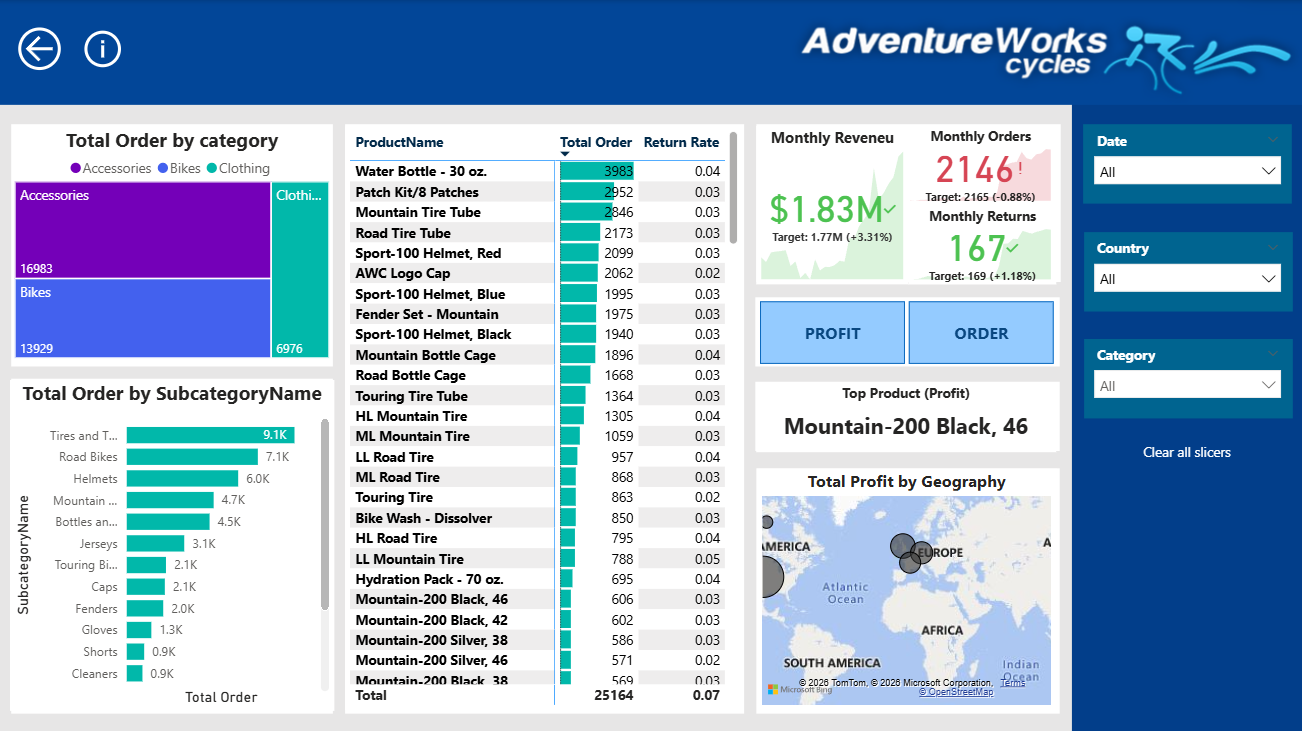

Layout of this report page (visuals, bound fields, positions):
{"tool":"powerbi","page":{"name":"Category Details","canvas":[1280,720],"ordinal":2},"visuals":[{"type":"treemap","title":"Total Order by category","fields":{"Group":["AWProductCategories.CategoryName","AWProductSubcategories.SubcategoryName"],"Values":["Sales.Total Order"]},"box":[9.6,124.2,318.4,232.8],"z":0},{"type":"shape","box":[745.9,295.1,142.3,61.5],"z":0,"group":"g1"},{"type":"shape","box":[892.5,295.5,142.3,61.5],"z":0,"group":"g2"},{"type":"textbox","box":[765.8,309.9,103.7,32.6],"z":1000,"group":"g1"},{"type":"textbox","box":[911.8,310,103.7,32.6],"z":1000,"group":"g2"},{"type":"barChart","fields":{"Category":["AWProductSubcategories.SubcategoryName"],"Y":["Sales.Total Order"]},"box":[9.6,372.7,318.4,324.4],"z":1000},{"type":"pivotTable","fields":{"Rows":["AWProducts.ProductName"],"Values":["Sales.Total Order","AWReturns.Return Rate"]},"box":[338.9,124.2,390.8,572.9],"z":2000},{"type":"kpi","title":"Monthly Reveneu","fields":{"TrendLine":["AWCalendar.Start of Month"],"Indicator":["Sales.Revenue Test"],"Goal":["Sales.Previous Month Revenue"]},"box":[742.9,124.2,149.5,155.6],"z":3000},{"type":"kpi","title":"Monthly Orders","fields":{"TrendLine":["AWCalendar.Start of Month"],"Indicator":["Sales.Total Order"],"Goal":["Sales.Previous Month Order"]},"box":[888.8,124.2,148.3,78.4],"z":4000},{"type":"kpi","title":"Monthly Returns","fields":{"Goal":["Sales.Previous Month Returns"],"TrendLine":["AWCalendar.Start of Month"],"Indicator":["AWReturns.Total Return"]},"box":[892.5,202.6,144.7,77.2],"z":5000},{"type":"map","title":"Total Profit by Geography","fields":{"Category":["AWTerritories.Country"],"Size":["Sales.Total Profit"]},"box":[744.1,460.7,293.1,236.4],"z":6000},{"type":"card","title":"Top Product (Profit)","fields":{"Values":["Min(AWProducts.ProductName)"]},"box":[742.9,376.3,294.3,67.5],"z":7000},{"type":"slicer","fields":{"Values":["AWTerritories.Country"]},"box":[1063.7,229.1,203.8,76],"z":9000},{"type":"slicer","fields":{"Values":["AWCalendar.Date"]},"box":[1063.7,124.2,203.8,76],"z":10000},{"type":"slicer","fields":{"Values":["AWProductCategories.CategoryName"]},"box":[1063.7,334.1,203.8,77.2],"z":11000},{"type":"actionButton","box":[8.4,20.5,60,54],"z":12000},{"type":"actionButton","box":[77.2,24.1,101.3,47],"z":13000},{"type":"actionButton","box":[1064.9,418.5,200.2,49.4],"z":14000},{"type":"group","id":"g1","title":"Group 1","box":[745.9,295.1,142.3,61.5],"z":15000},{"type":"group","id":"g2","title":"Group 2","box":[892.5,295.5,142.3,61.5],"z":16000},{"type":"actionButton","box":[745.3,295.5,142.3,61.5],"z":17000},{"type":"actionButton","box":[892.5,296.7,142.3,61.5],"z":18000}]}

Visuals, with their boxes in screenshot pixels (x1, y1, x2, y2), scaled from the page's 1280x720 canvas onto the 1302x731 screenshot:
"Total Order by category" treemap: 10/126/334/362
shape: 759/300/903/362
shape: 908/300/1053/362
textbox: 779/315/884/348
textbox: 927/315/1033/348
barChart - AWProductSubcategories.SubcategoryName x Sales.Total Order: 10/378/334/708
pivotTable - AWProducts.ProductName x Sales.Total Order: 345/126/742/708
"Monthly Reveneu" kpi: 756/126/908/284
"Monthly Orders" kpi: 904/126/1055/206
"Monthly Returns" kpi: 908/206/1055/284
"Total Profit by Geography" map: 757/468/1055/708
"Top Product (Profit)" card: 756/382/1055/451
slicer - AWTerritories.Country: 1082/233/1289/310
slicer - AWCalendar.Date: 1082/126/1289/203
slicer - AWProductCategories.CategoryName: 1082/339/1289/418
actionButton: 9/21/70/76
actionButton: 79/24/182/72
actionButton: 1083/425/1287/475
"Group 1" group: 759/300/903/362
"Group 2" group: 908/300/1053/362
actionButton: 758/300/903/362
actionButton: 908/301/1053/364
